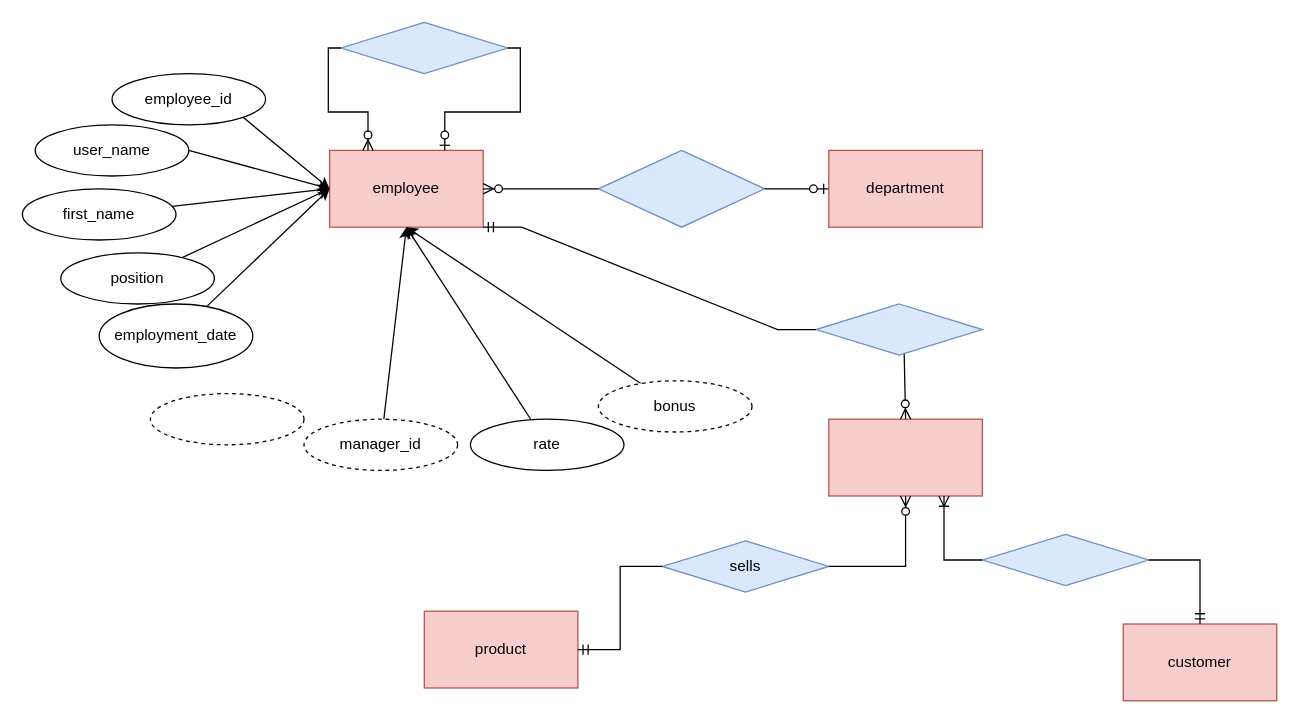
Image size: 1299x723. Some labels were removed from this diagram. Each missing label, with the box of its shape:
buys: (981, 533, 1149, 586)
department_id: (149, 392, 304, 445)
manages: (340, 21, 508, 74)
orders: (828, 418, 982, 496)
places: (815, 303, 982, 355)
works_for: (597, 149, 765, 227)
